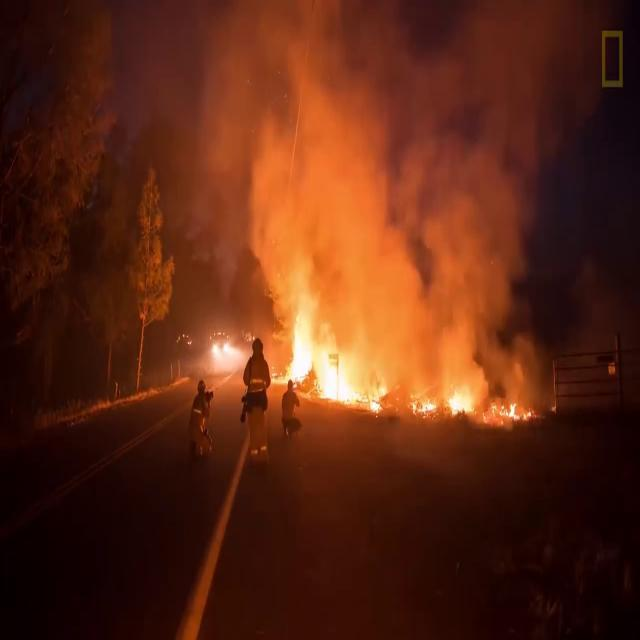Fire: (276, 315, 388, 413), (501, 396, 534, 424), (447, 388, 475, 419), (412, 394, 436, 418)
Smoke: (182, 8, 576, 316), (187, 12, 267, 297)
